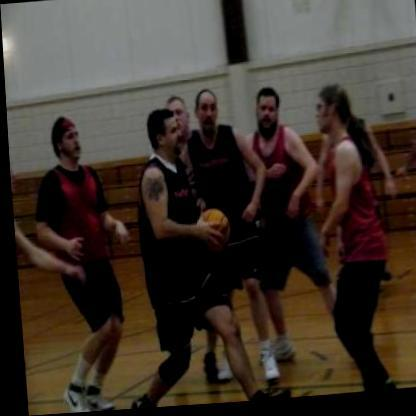basketball: (190, 205, 229, 252)
